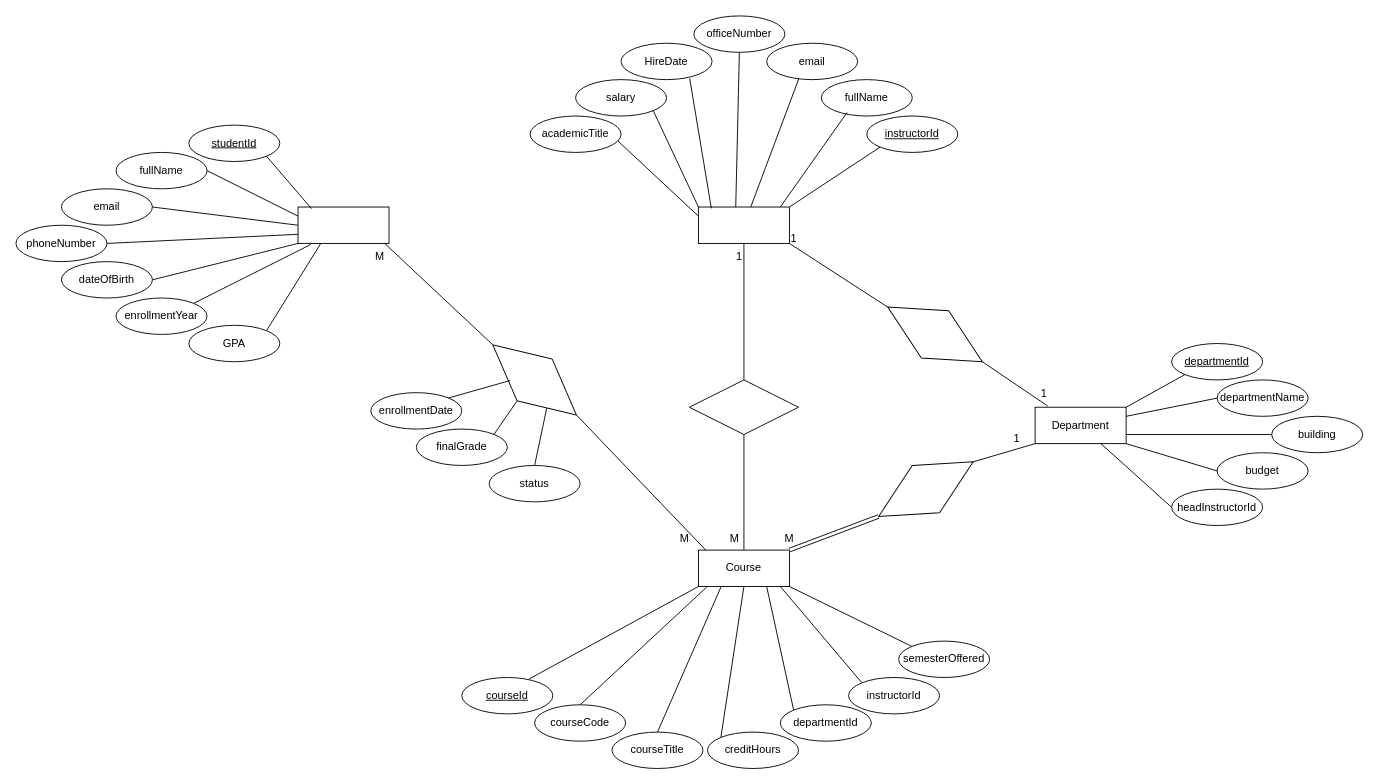
Image size: 1379x784. Some labels were removed from this diagram. The box of each missing label's shape, as (x1, y1, x2, y2) in pixels:
Belongs: (864, 437, 987, 540)
Enrollment: (474, 323, 594, 436)
Head: (873, 282, 996, 385)
Instructor: (698, 206, 789, 243)
Student: (297, 206, 389, 243)
taught: (688, 379, 799, 435)
